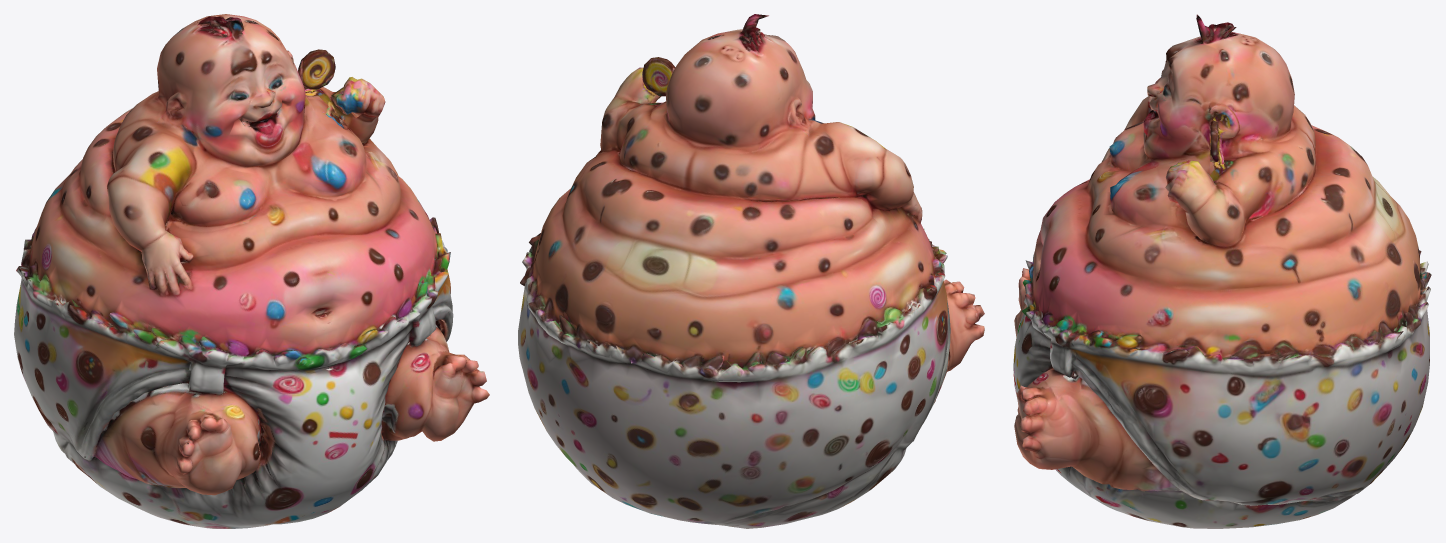
The model's file is candy-new.glb.
3 renders of one model, left to right at view 1: azimuth 30°, elevation 25°; view 2: azimuth 150°, elevation 25°; view 3: azimuth 270°, elevation 25°, orthographic.
Visible parts, largest first — view 1: Mesh1.0; view 2: Mesh1.0; view 3: Mesh1.0.
Part boxes in pixels (x1,y1,x2,y2): Mesh1.0: (14, 14, 489, 528); Mesh1.0: (518, 14, 984, 528); Mesh1.0: (1013, 14, 1431, 528).
Bounding box in the file's own units: 1.61 × 2 × 1.58.
Materials: 1 (1 with a texture image).
